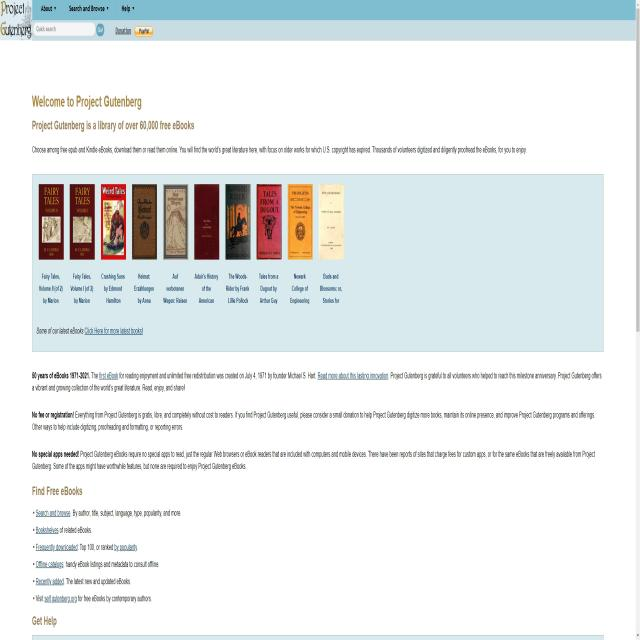search: (33, 18, 105, 38)
